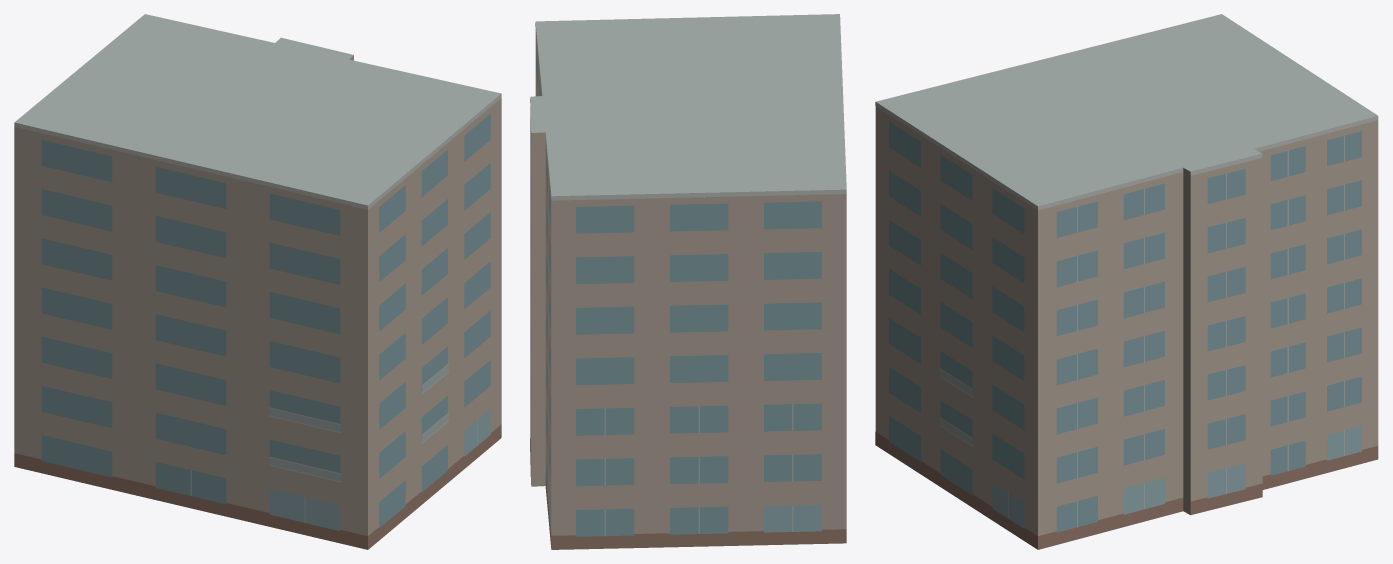
The model's file is survey-upis-32865204.glb.
The picture shows the model from 3 angles, left to right: view 1: azimuth 30°, elevation 25°; view 2: azimuth 150°, elevation 25°; view 3: azimuth 270°, elevation 25°; orthographic projection. The views are drawn at different scales.
Parts seen in each view (by area): view 1: survey-upis-32865204.tmp; view 2: survey-upis-32865204.tmp; view 3: survey-upis-32865204.tmp.
Part boxes in pixels (box(x1,y1,x2,y2)): survey-upis-32865204.tmp: box(14, 14, 501, 549); survey-upis-32865204.tmp: box(530, 14, 846, 549); survey-upis-32865204.tmp: box(875, 14, 1378, 549).
Size of the model in its own units: 23.79 by 19.8 by 26.28.
